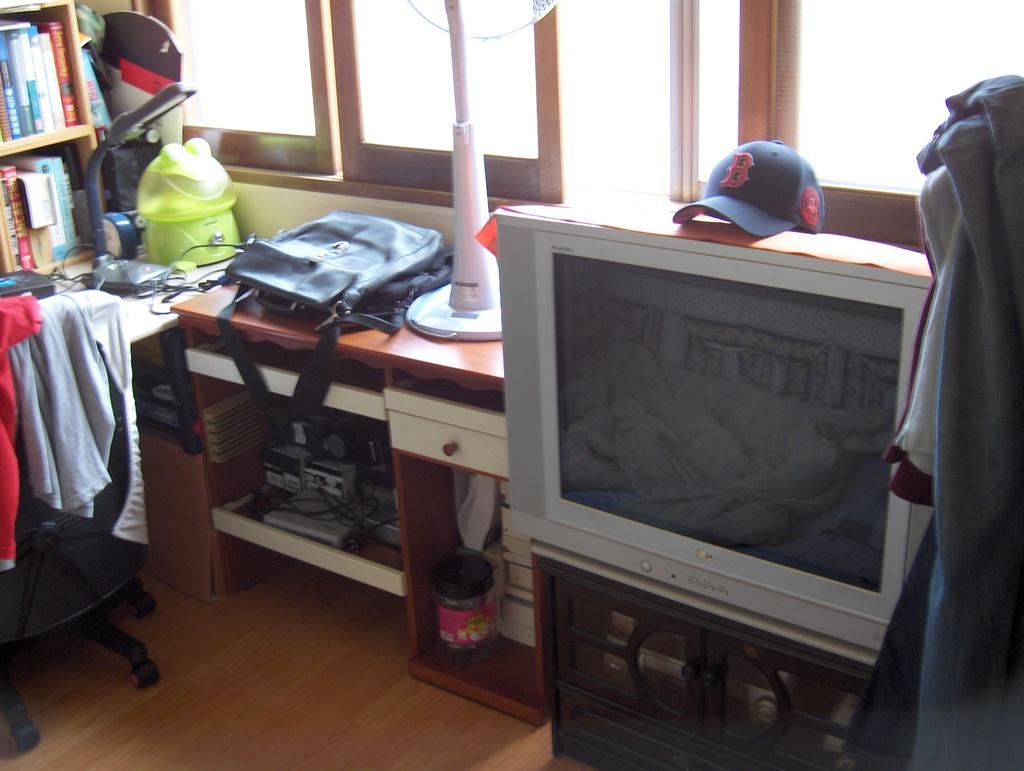Chair: (0, 307, 151, 695)
